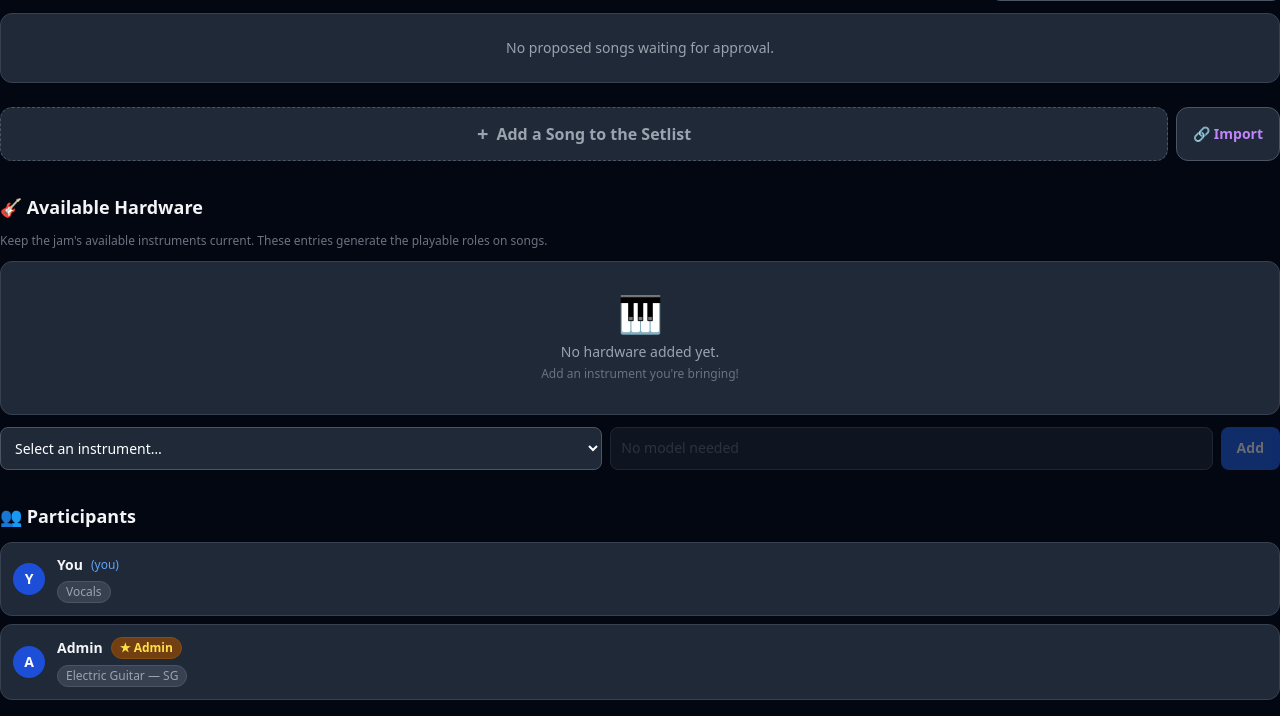
JamDetail › opens and closes the participant profile modal
(page scrolled)
What coordinates should you click on to do the following:
click the text "Admin"
I would click on:
 (80, 648)
Its box is [57,638,103,658].
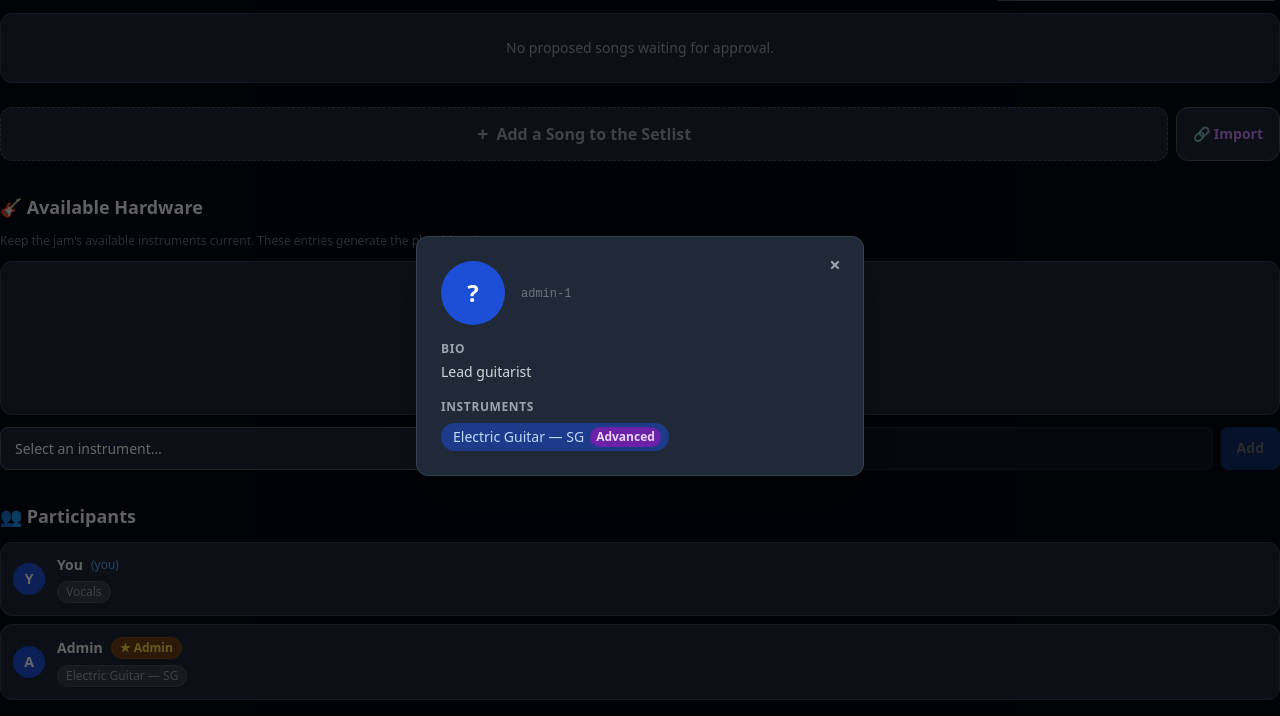
Check: the text "Lead guitarist" is shown, box [441,362,531,381]
What coordinates should you click on to do the following:
click the button "×"
I would click on:
 (835, 265)
Its box is [819,249,851,281].
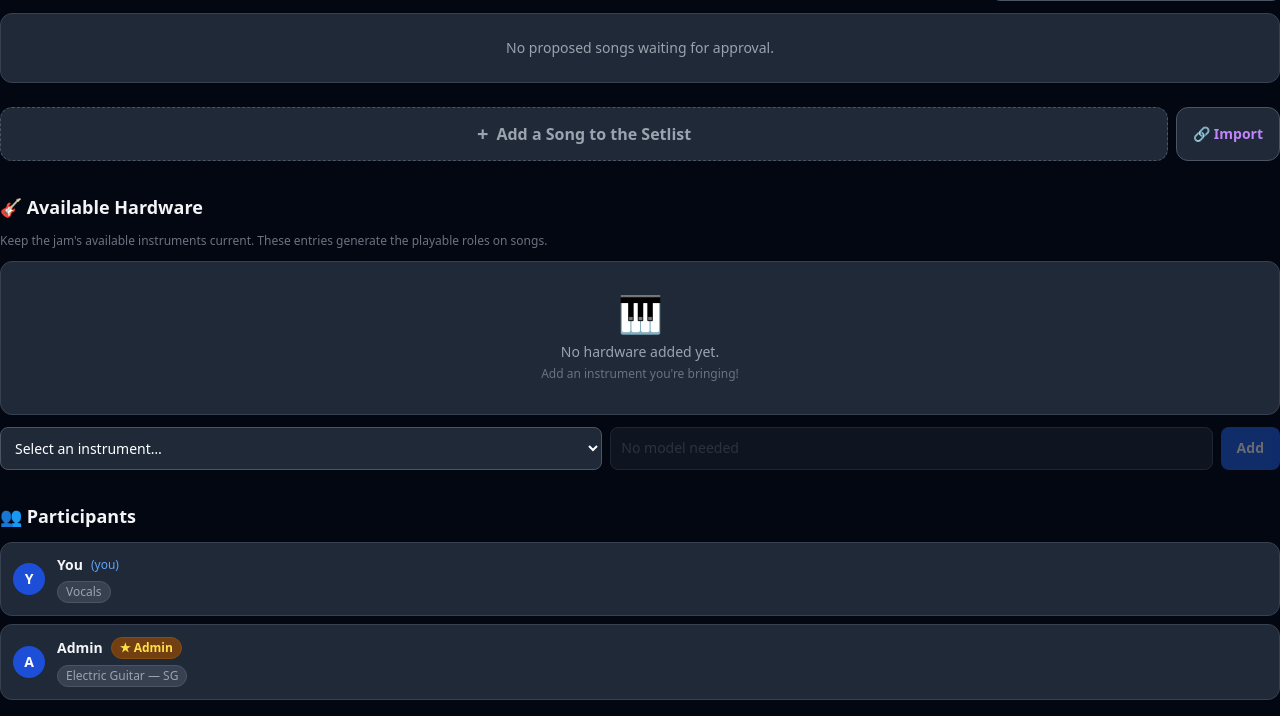
Check: the text "Lead guitarist" is gone
